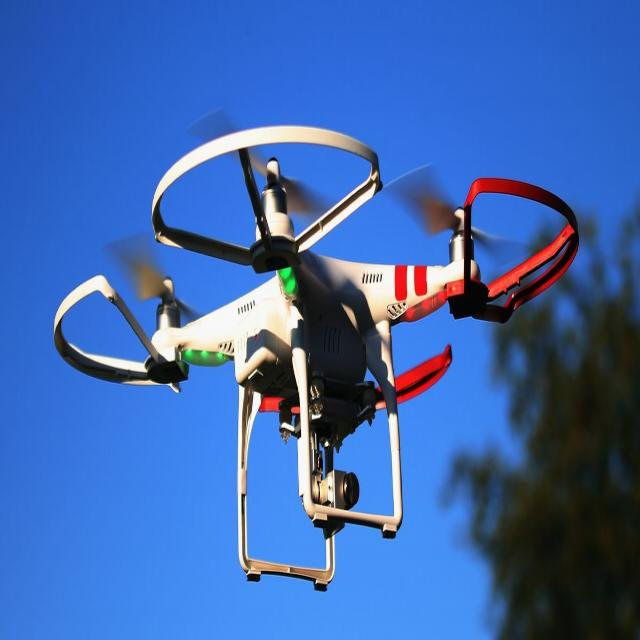drones: (44, 105, 584, 590)
